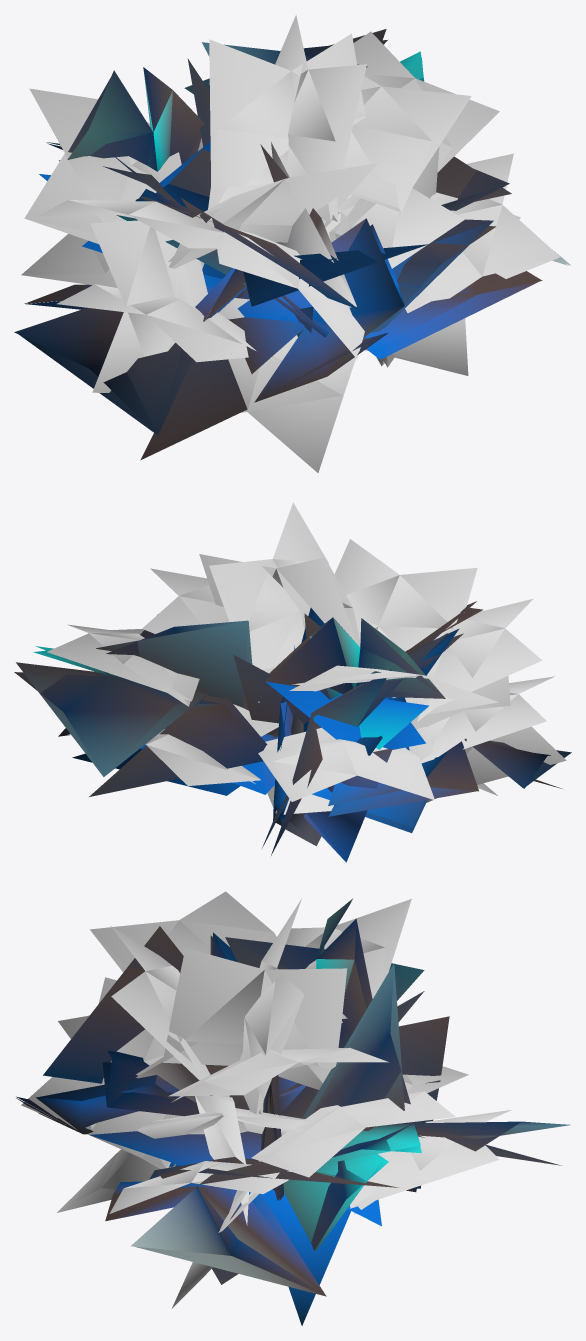
Rendered from shrub_e.dae.
The picture shows the model from 3 angles, top to bottom: view 1: azimuth 30°, elevation 25°; view 2: azimuth 150°, elevation 25°; view 3: azimuth 270°, elevation 25°; orthographic projection. The views are drawn at different scales.
Parts seen in each view (by area): view 1: shrub_e_a450, shrub_e_a150; view 2: shrub_e_a450, shrub_e_a150, Colmesh-1; view 3: shrub_e_a450, shrub_e_a150.
Part boxes in pixels (<box>): shrub_e_a450: <box>14,14,571,472</box>; shrub_e_a150: <box>20,29,568,457</box>; shrub_e_a450: <box>14,502,571,860</box>; shrub_e_a150: <box>16,554,571,862</box>; Colmesh-1: <box>267,785,333,814</box>; shrub_e_a450: <box>16,891,570,1325</box>; shrub_e_a150: <box>16,899,569,1310</box>.
Bounding box in the file's own units: 5.14 × 5.07 × 3.64.
